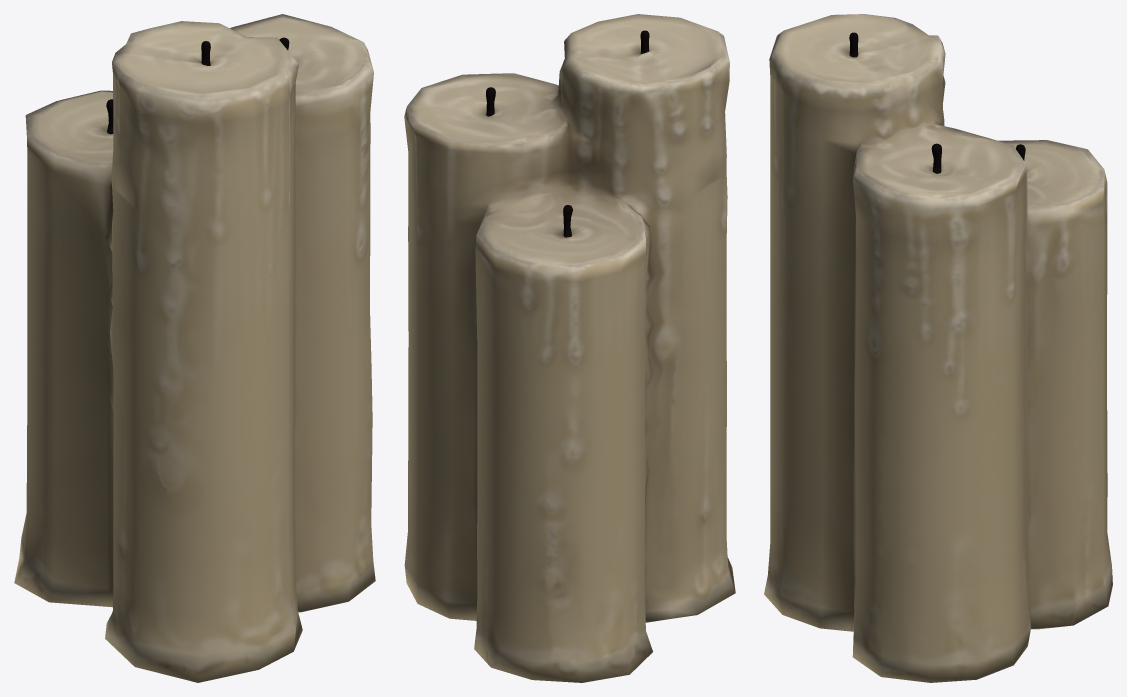
Rendered from candle_09.fbx.
The picture shows the model from 3 angles, left to right: view 1: azimuth 30°, elevation 25°; view 2: azimuth 150°, elevation 25°; view 3: azimuth 270°, elevation 25°; orthographic projection. The views are drawn at different scales.
Visible parts, largest first — view 1: Candle_009; view 2: Candle_009; view 3: Candle_009.
Boxes of the visible parts, x1,y1,x2,y2 form: Candle_009: [14, 14, 375, 682]; Candle_009: [404, 14, 735, 682]; Candle_009: [764, 14, 1112, 682].
Bounding box in the file's own units: 79.46 × 157 × 87.91.
